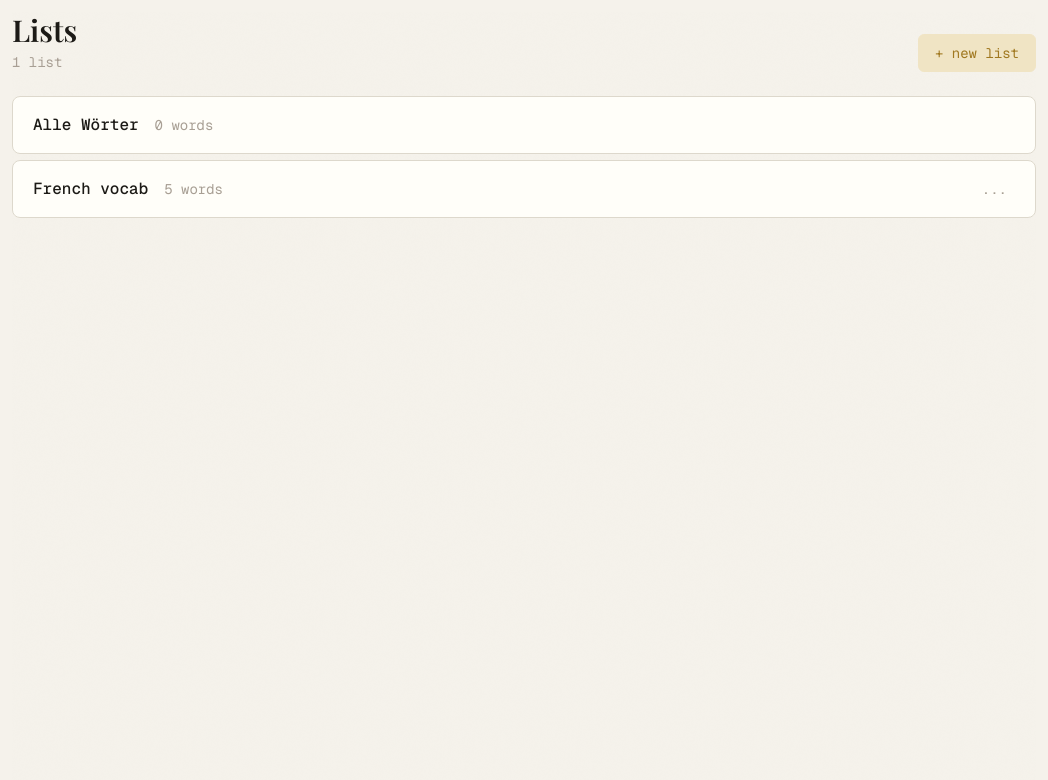
it: ListRow — dropdown open/close › clicking outside the menu closes the dropdown
Step 1. Click the button named "List options" → point(994, 189), box top-left (974, 177), bottom-right (1015, 201)
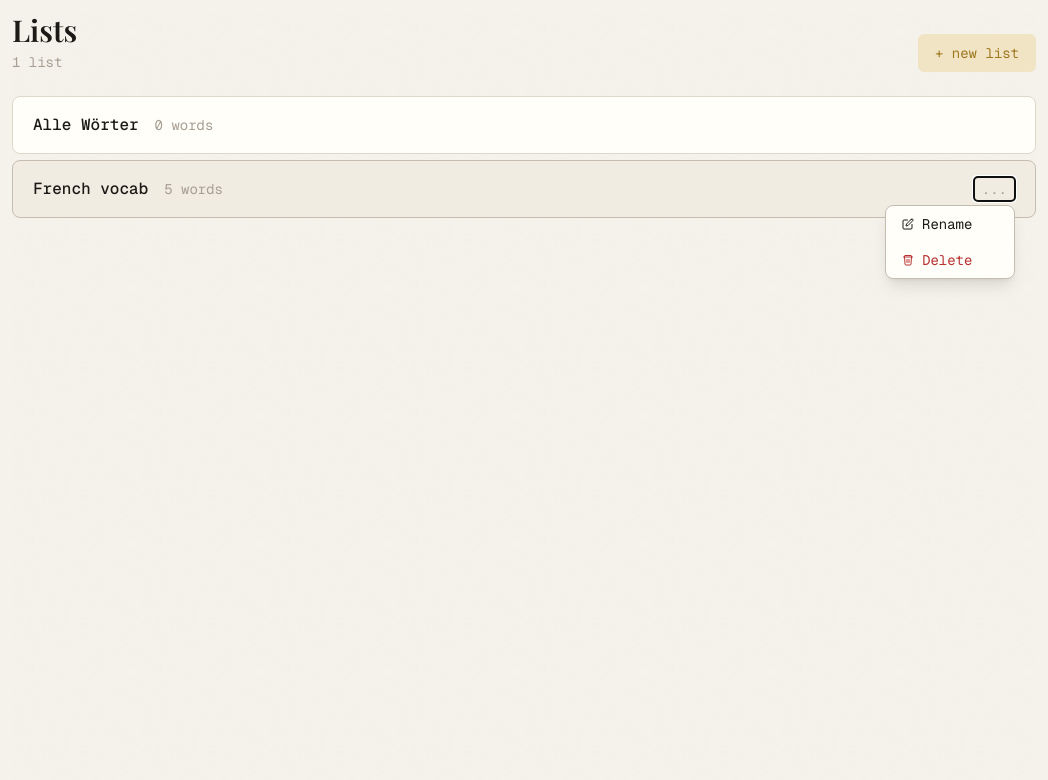
expect the button "Rename" is shown: met, box top-left (886, 206), bottom-right (1014, 242)
# Click somewhere outside the menu
Step 2. Click the element that starts with "Lists" → point(524, 396), box top-left (12, 12), bottom-right (1036, 779)
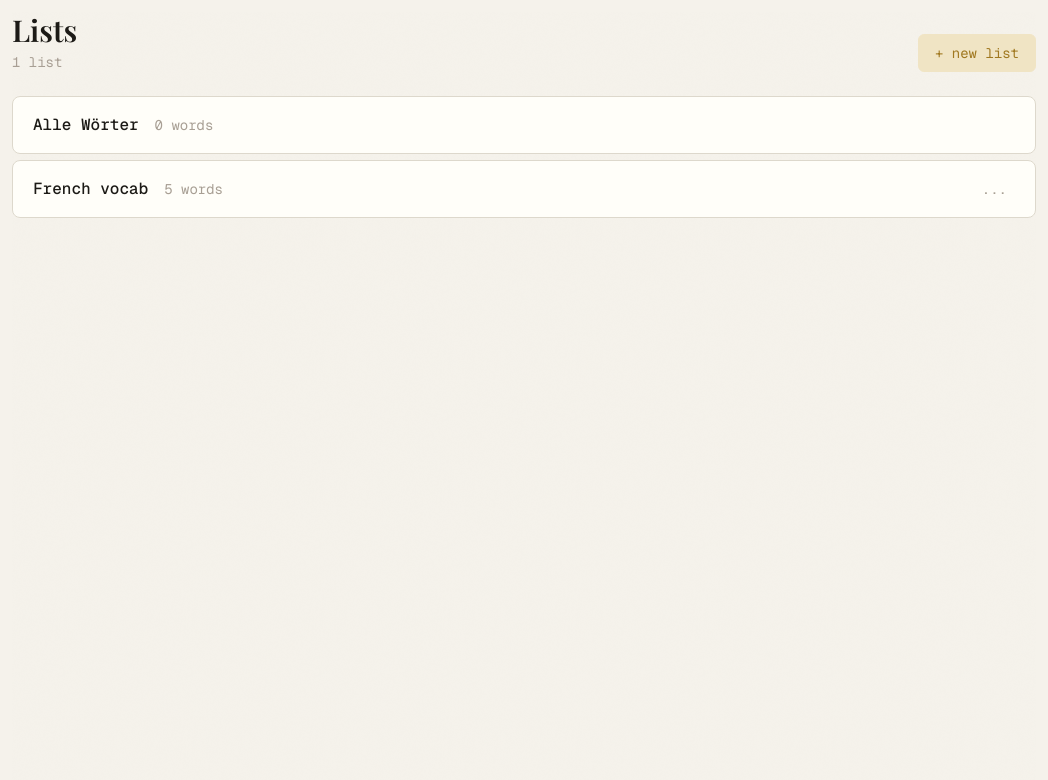
expect the button "Rename" is gone: met
